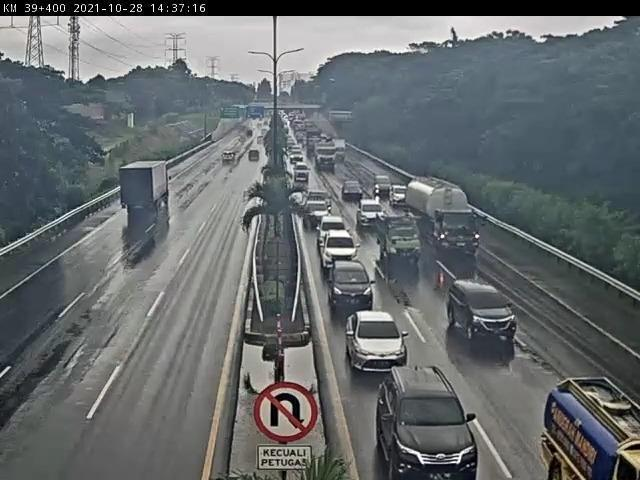car: (373, 364, 480, 480), (344, 309, 412, 374), (448, 281, 519, 343), (372, 208, 420, 263), (328, 258, 376, 310), (319, 229, 363, 269), (352, 196, 387, 227), (317, 213, 350, 242), (305, 192, 333, 224), (341, 179, 365, 201), (390, 184, 408, 207), (375, 175, 392, 195), (294, 162, 310, 181)
truck: (544, 377, 640, 480), (407, 177, 484, 257), (121, 163, 173, 213)
